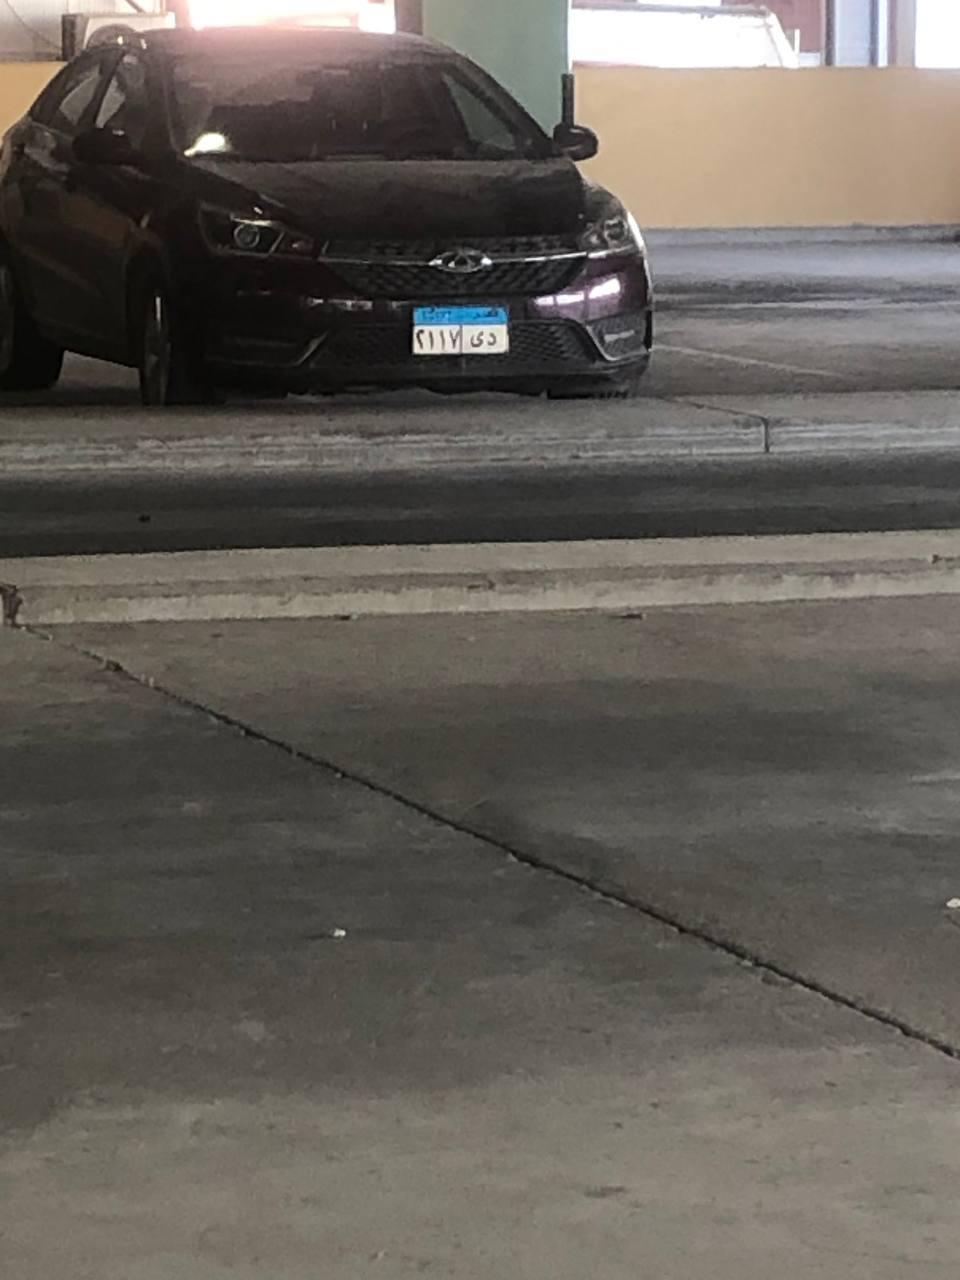1: (424, 328, 436, 351), (435, 325, 446, 349)
2: (414, 328, 426, 350)
7: (445, 326, 462, 351)
License Plate: (408, 302, 511, 356)
Yeeh: (467, 329, 486, 348)
daal: (487, 332, 498, 347)
